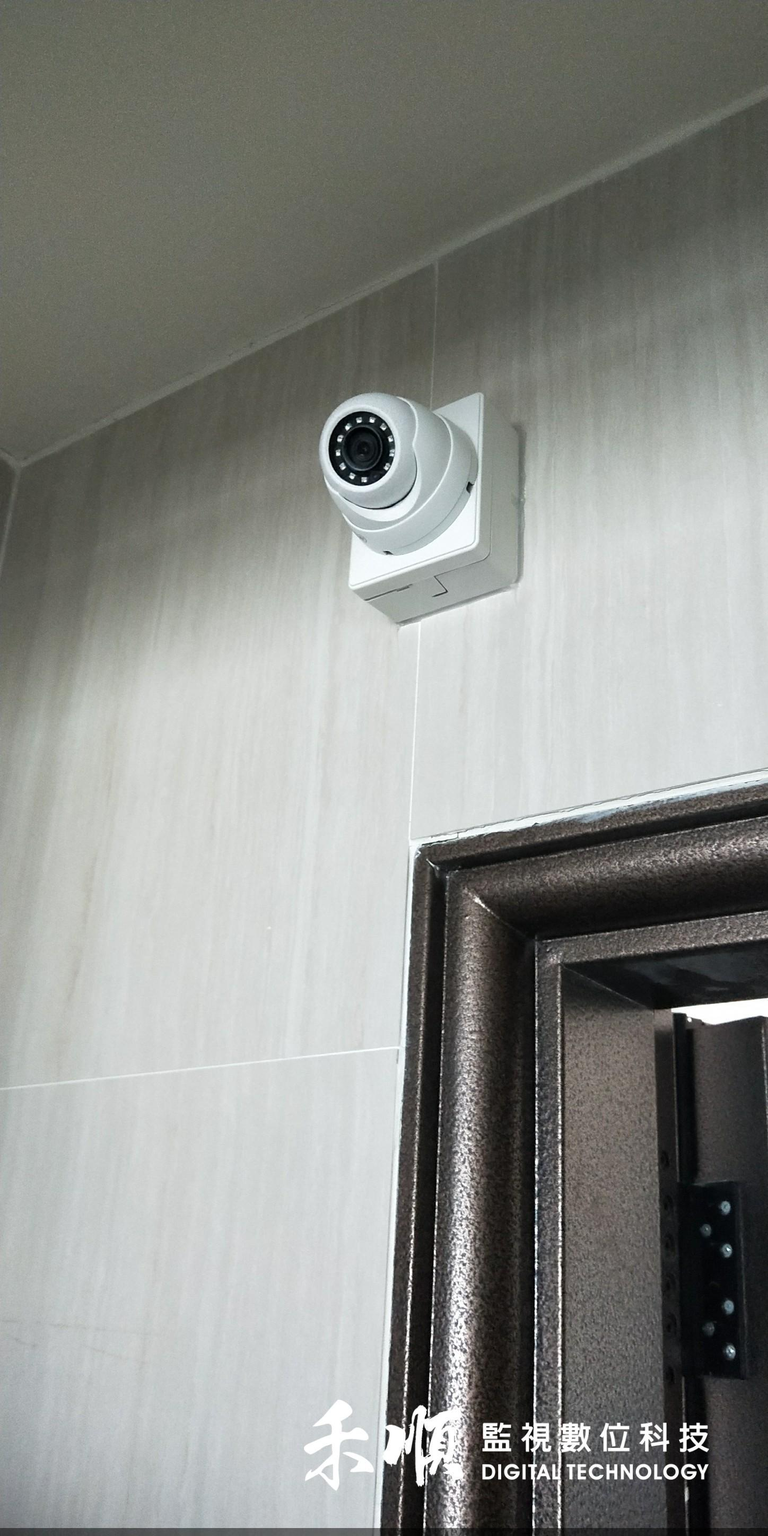Monitor: (294, 371, 618, 679)
